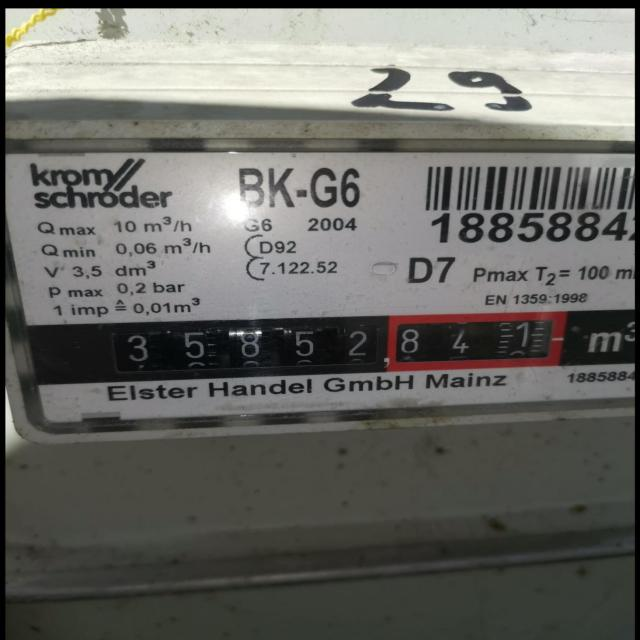gaz_meter: (7, 140, 636, 409)
indication: (105, 309, 567, 383)
